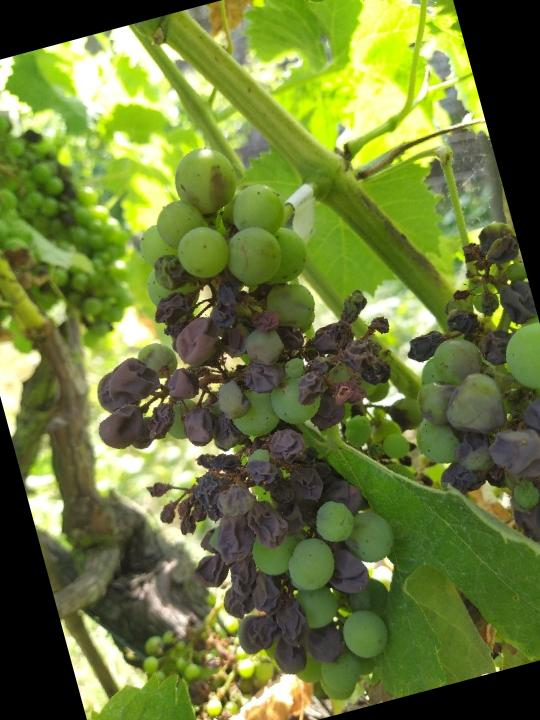grape: (30, 106, 484, 720), (0, 90, 147, 362)
